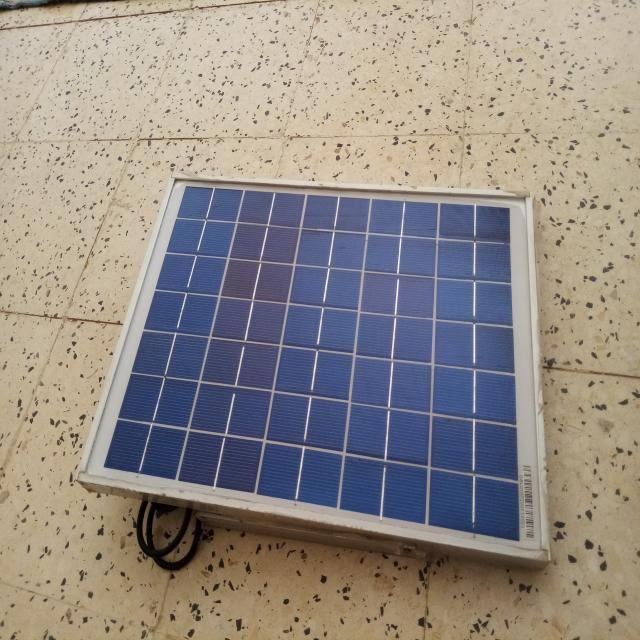no faulty: (77, 174, 551, 560)
